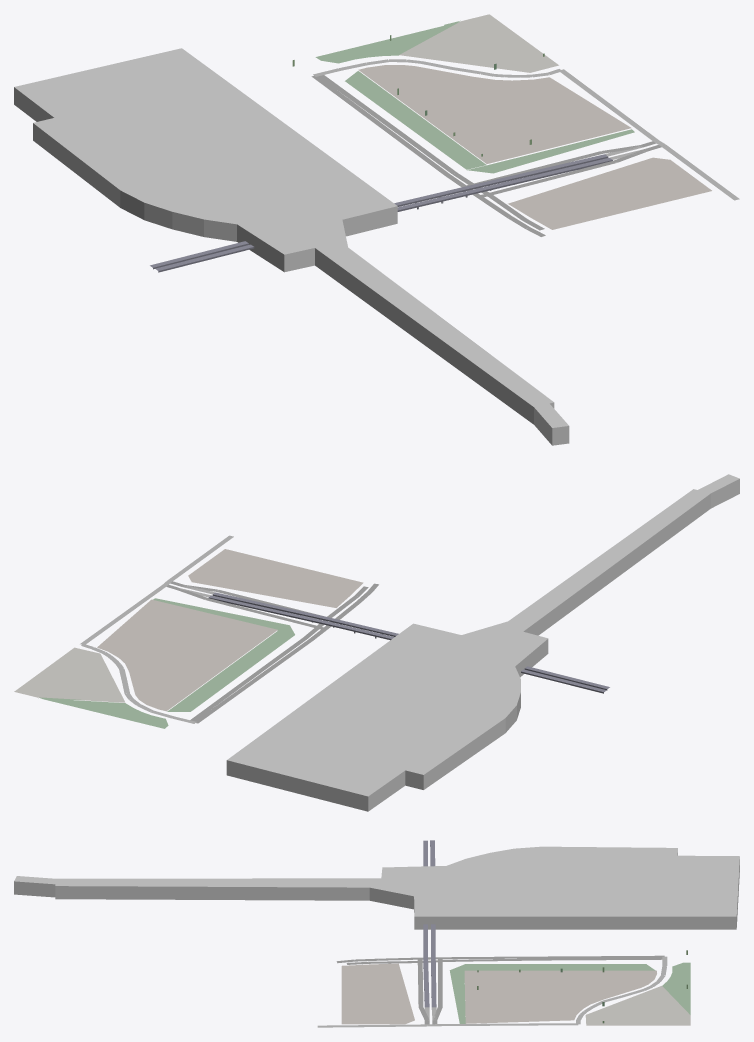
3 views of the same model, one above another, from view 1: azimuth 30°, elevation 25°; view 2: azimuth 150°, elevation 25°; view 3: azimuth 270°, elevation 25° (orthographic). The views are drawn at different scales.
Size of the model in its own units: 633 by 20.8 by 1040.
